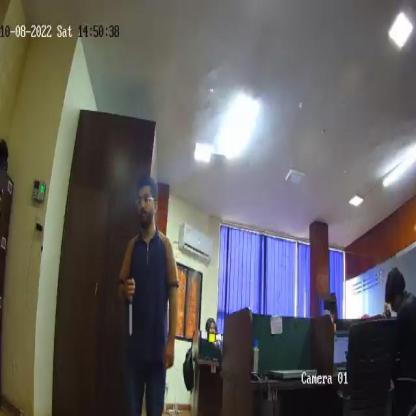Knife: (126, 280, 136, 336)
